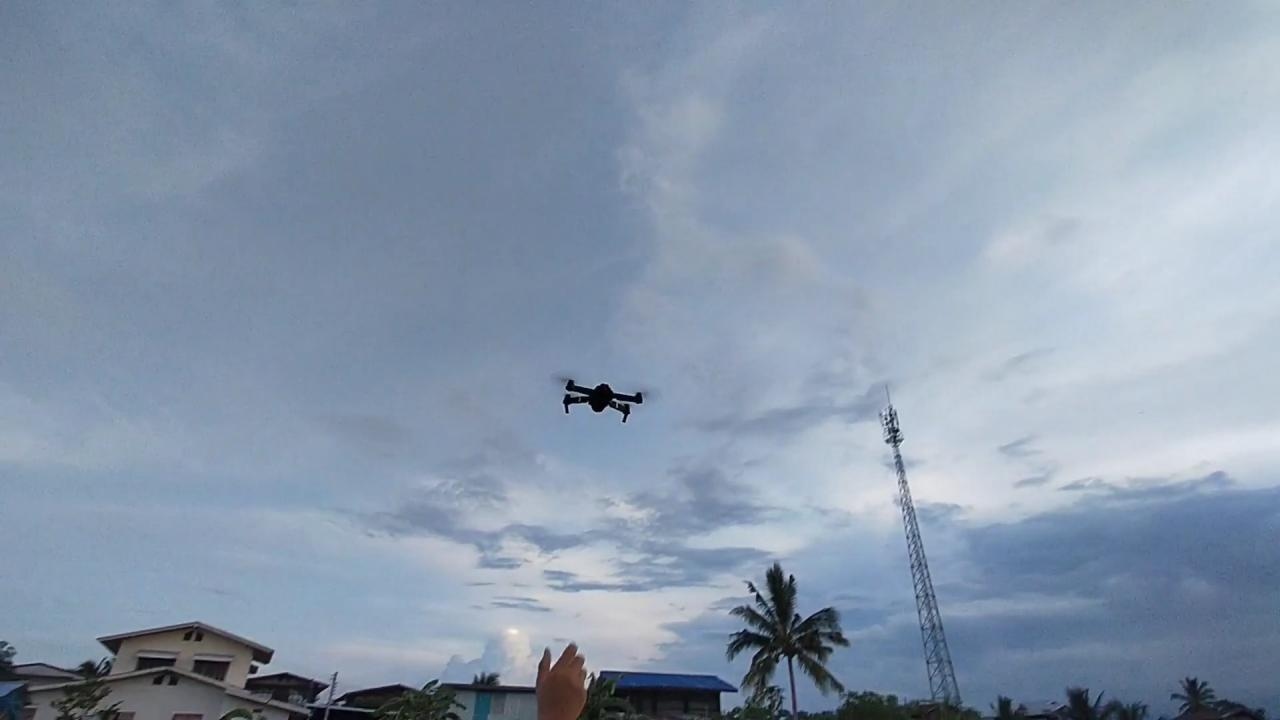Drone: (538, 361, 666, 437)
